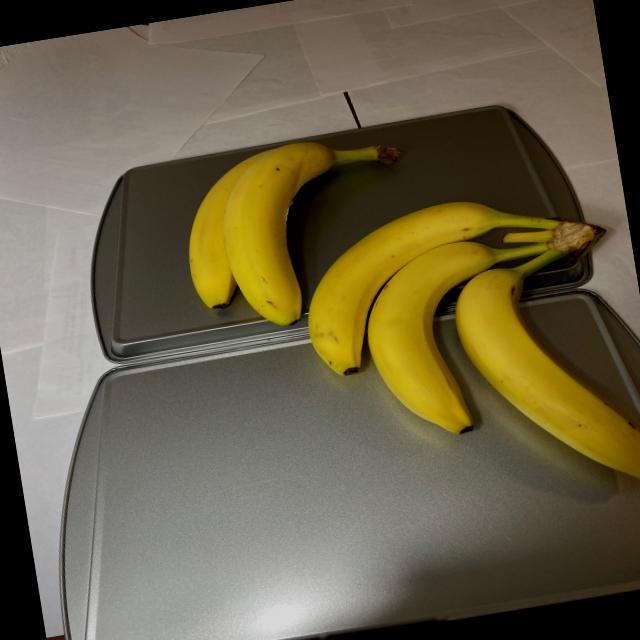banana: (172, 93, 640, 553)
